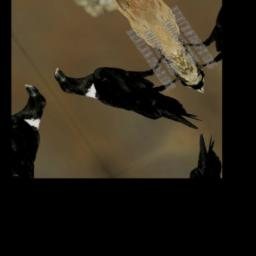Crow: (49, 20, 216, 172)
